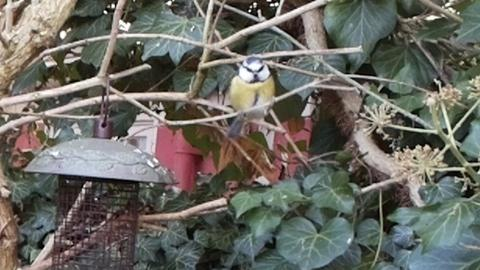blue tit: (224, 56, 276, 138)
